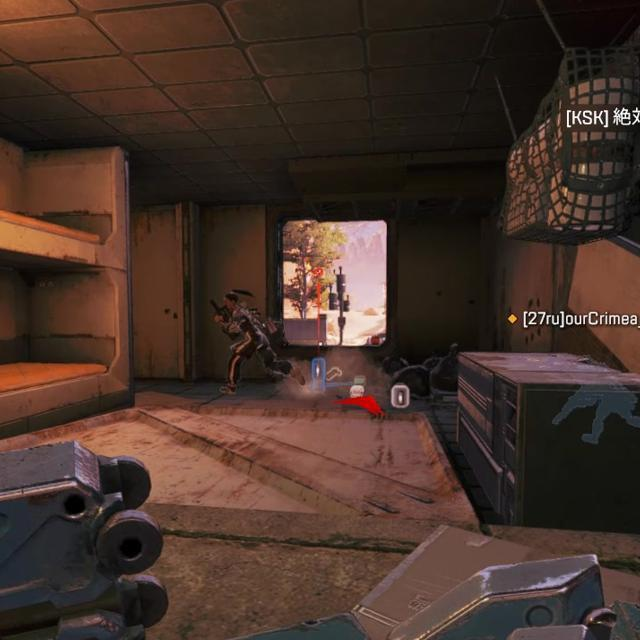avatar: (215, 287, 273, 396)
